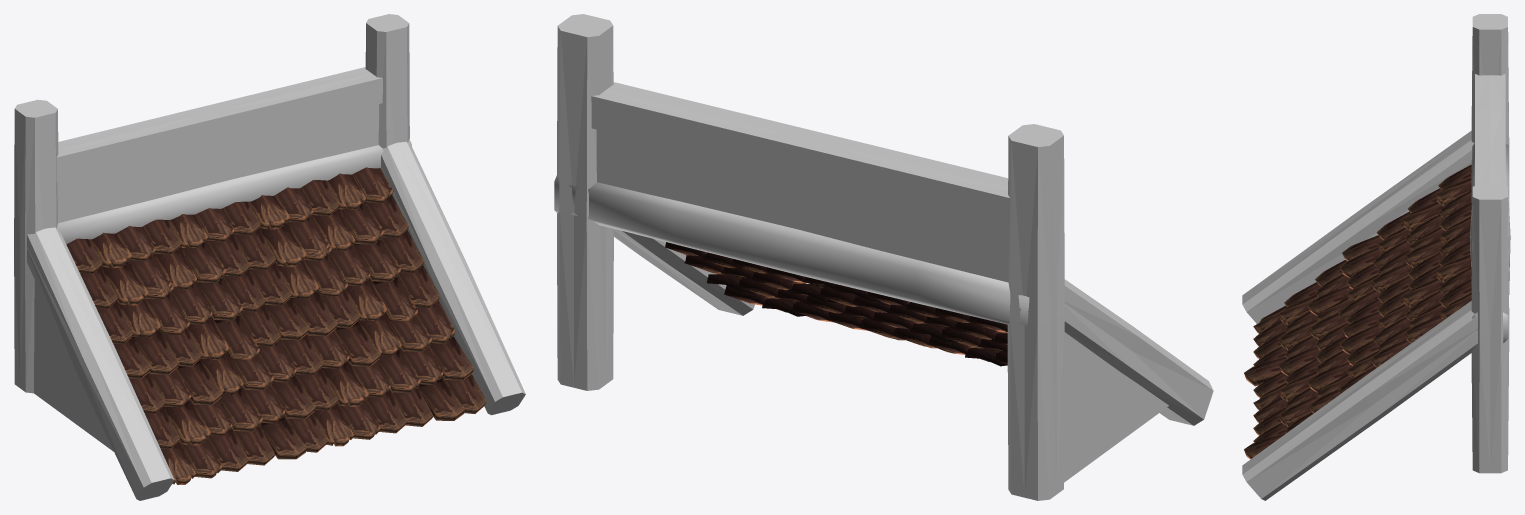
Rendered from VV-RoofTile9.fbx.
3 renders of one model, left to right at view 1: azimuth 30°, elevation 25°; view 2: azimuth 150°, elevation 25°; view 3: azimuth 270°, elevation 25°, orthographic. The views are drawn at different scales.
Parts seen in each view (by area): view 1: RoofTile.9; view 2: RoofTile.9; view 3: RoofTile.9.
Boxes of the visible parts, left/top/right/bottom form: RoofTile.9: left=14, top=14, right=525, bottom=500; RoofTile.9: left=554, top=14, right=1213, bottom=500; RoofTile.9: left=1242, top=14, right=1510, bottom=500.
Size of the model in its own units: 4.38 by 3.34 by 2.67.
